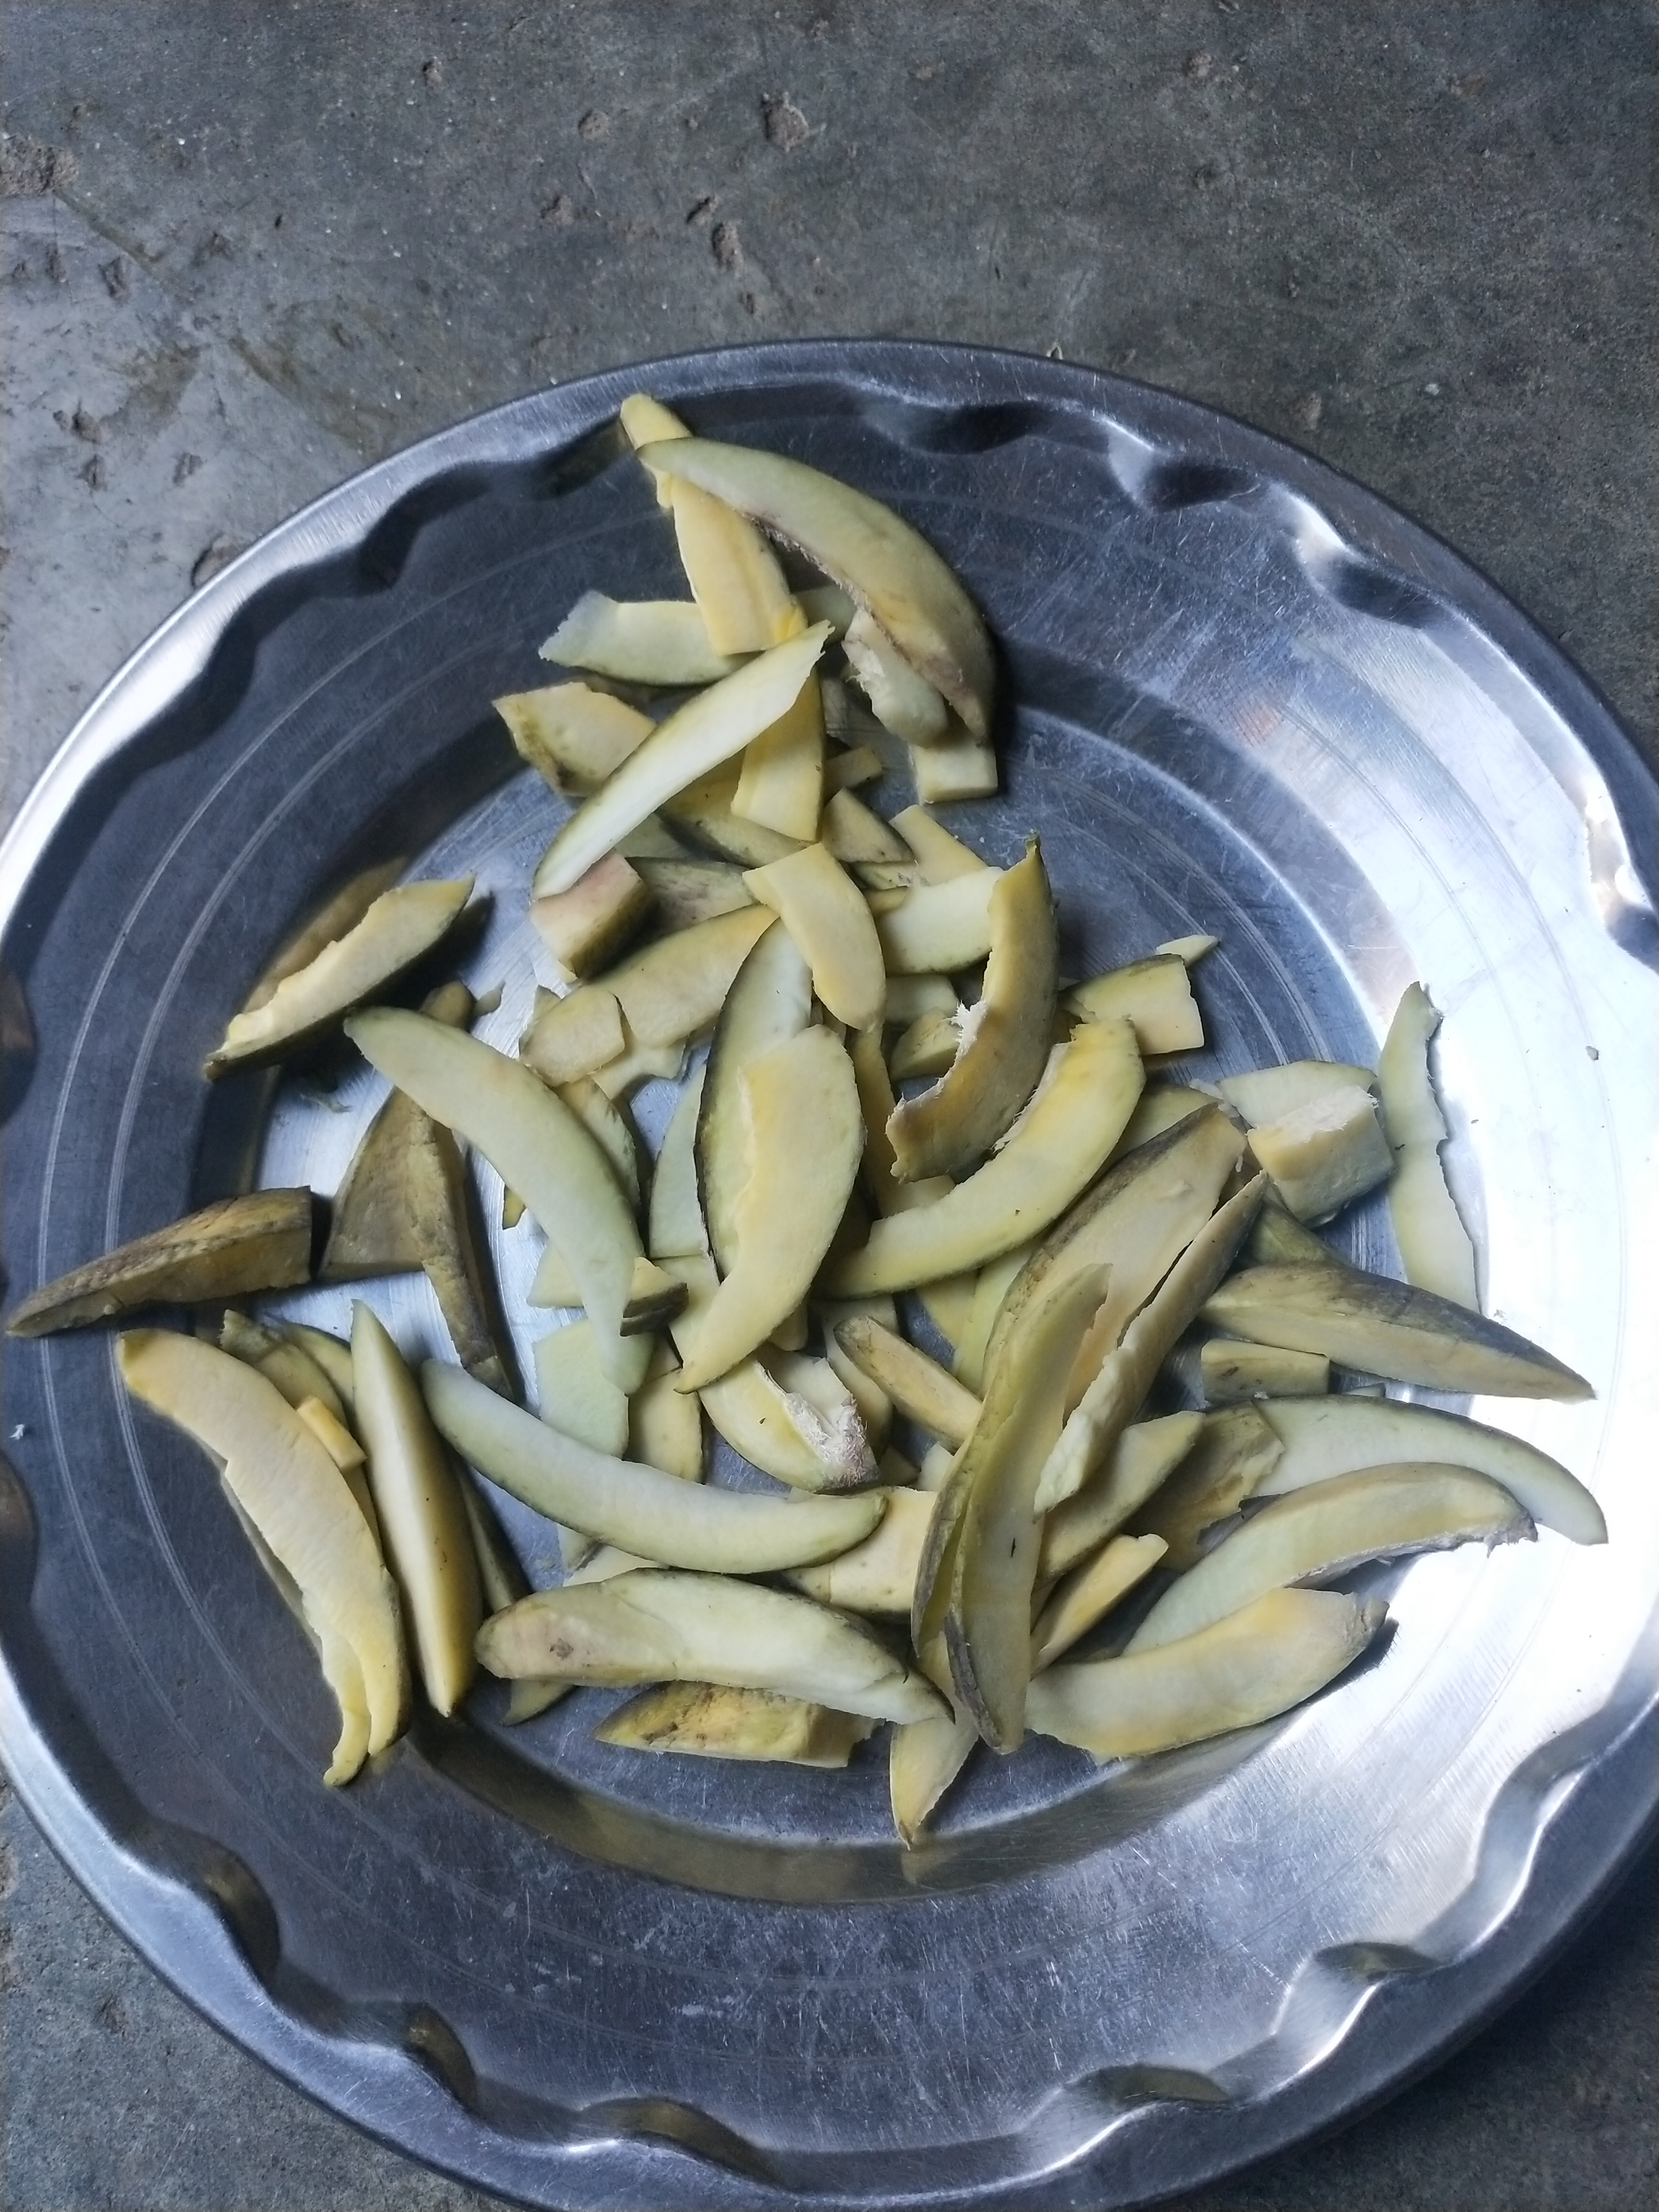food: (3, 385, 1621, 1867)
